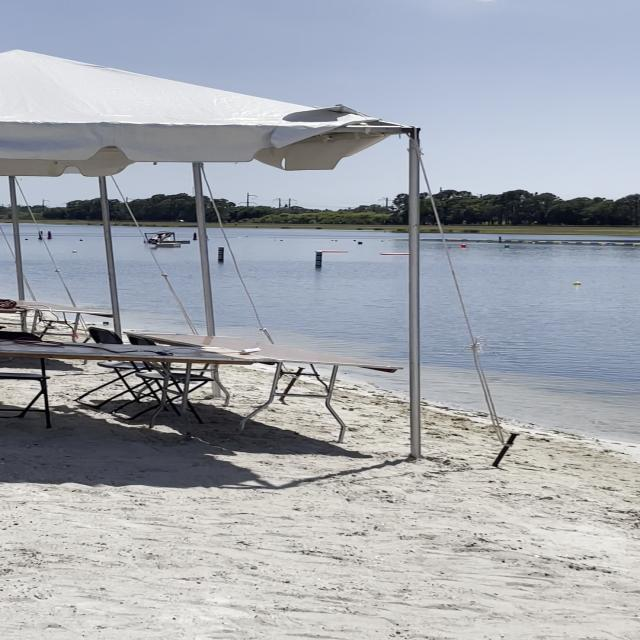buoy: (572, 281, 583, 286), (502, 244, 510, 248), (459, 244, 466, 248), (357, 241, 364, 245), (72, 250, 78, 254)
